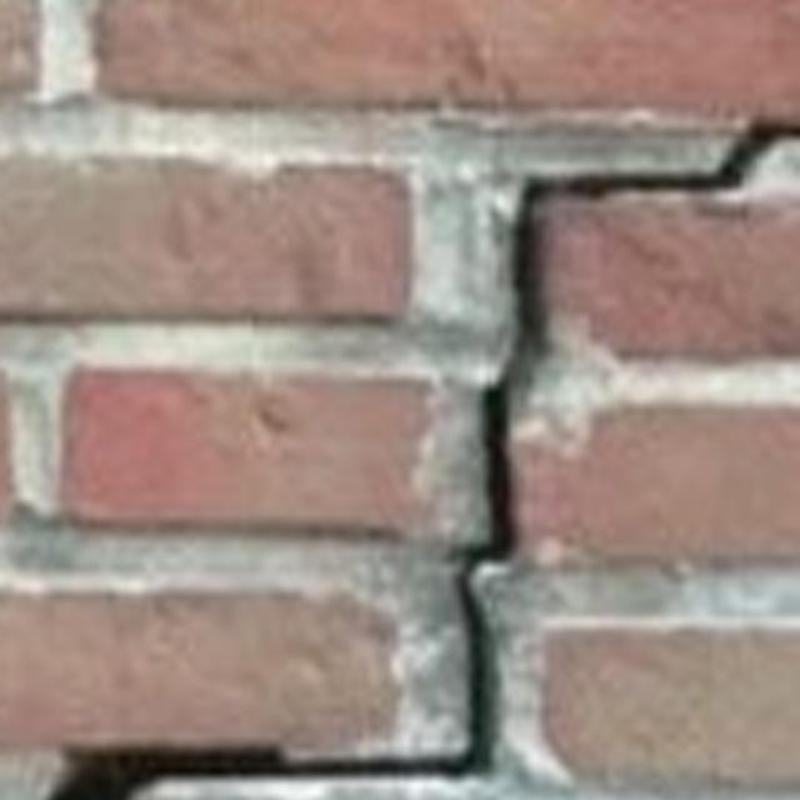crack: (50, 127, 800, 800)
